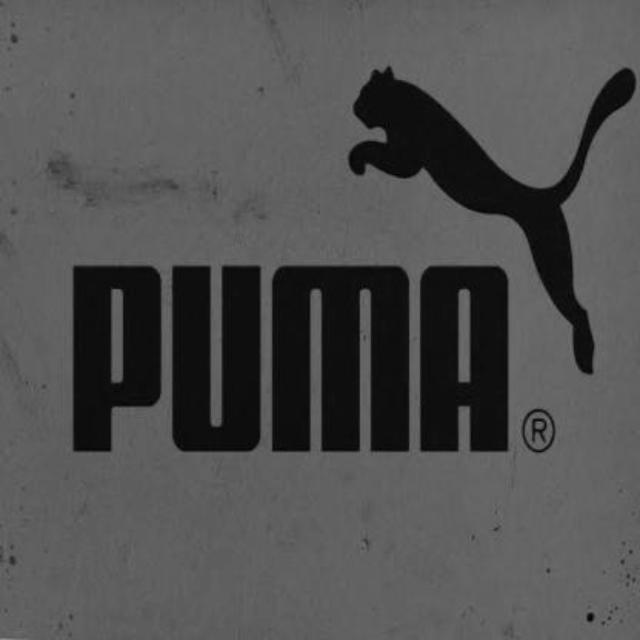PUMA_original: (54, 48, 640, 492)
